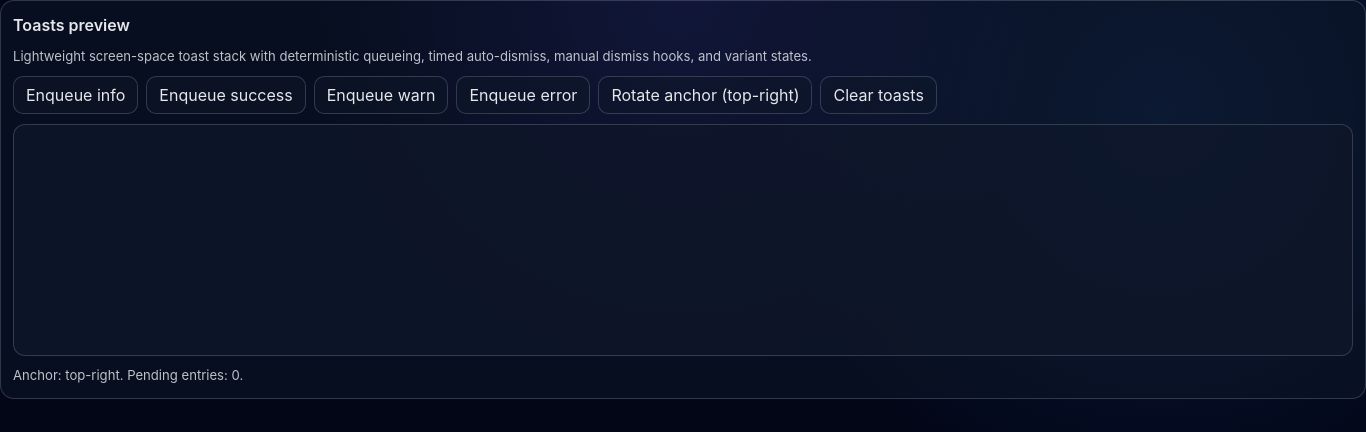
Test: ToastsExample › enqueues and dismisses toasts while updating queue status
Expected: the text "Anchor: top-right. Pending entries: 0." is shown, x1=13 y1=367 x2=243 y2=383
Click the button "Enqueue info": point(76, 95) x1=13 y1=76 x2=138 y2=114
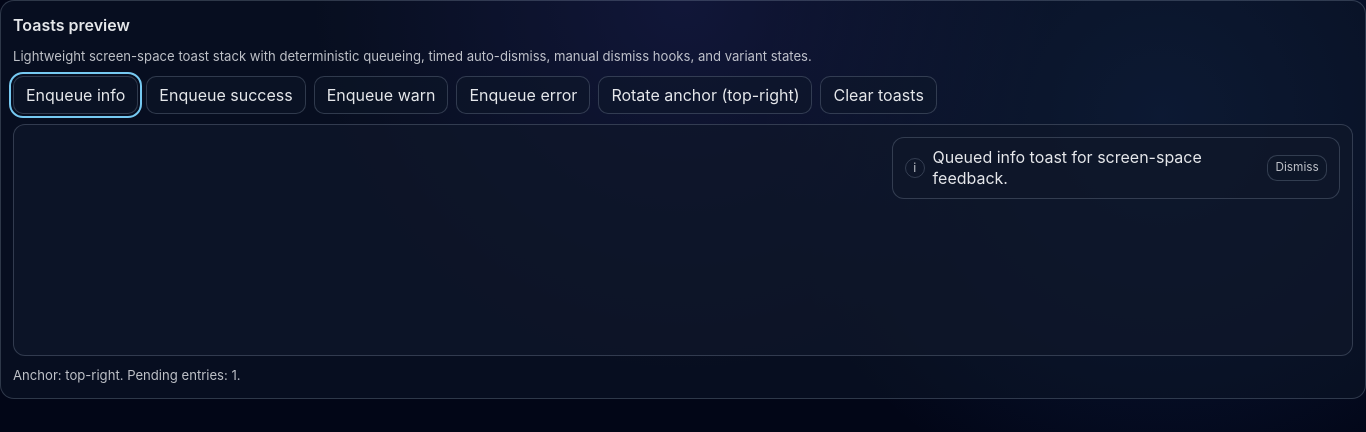
Click the button "Enqueue success": point(226, 95) x1=146 y1=76 x2=306 y2=114
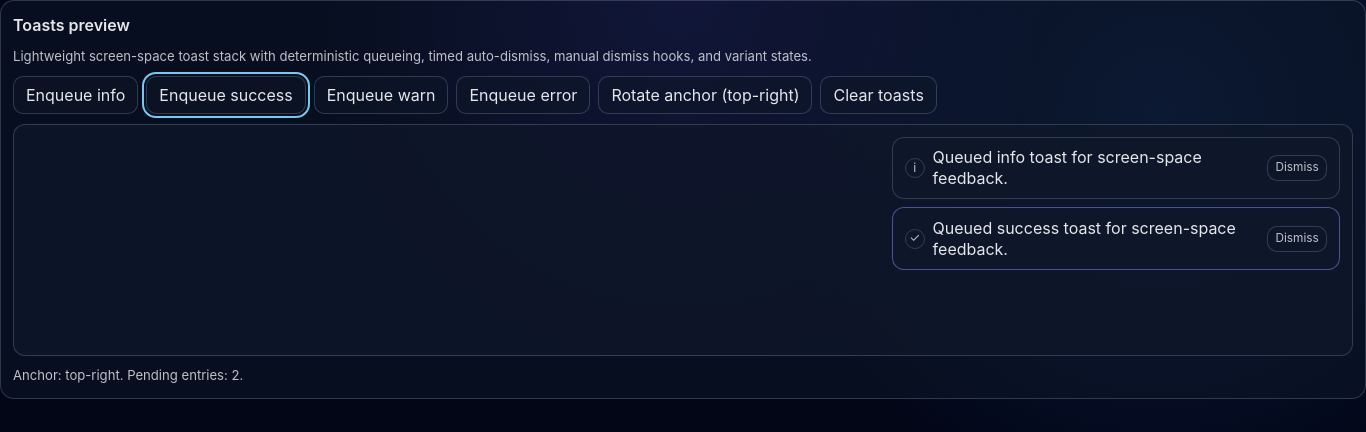
Expected: the text "Anchor: top-right. Pending entries: 2." is shown, x1=13 y1=367 x2=243 y2=383
Click the button with aria-label "Dismiss info toast": point(1297, 168) x1=1267 y1=155 x2=1327 y2=181
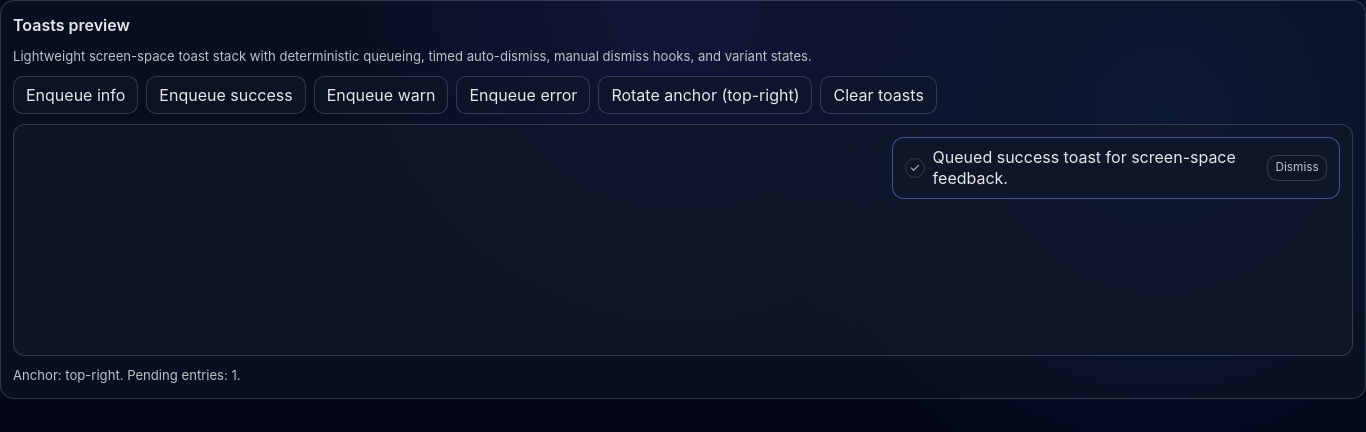
Expected: the text "Anchor: top-right. Pending entries: 1." is shown, x1=13 y1=367 x2=241 y2=383
Click the button "Rotate anchor (top-right)": point(705, 95) x1=598 y1=76 x2=812 y2=114
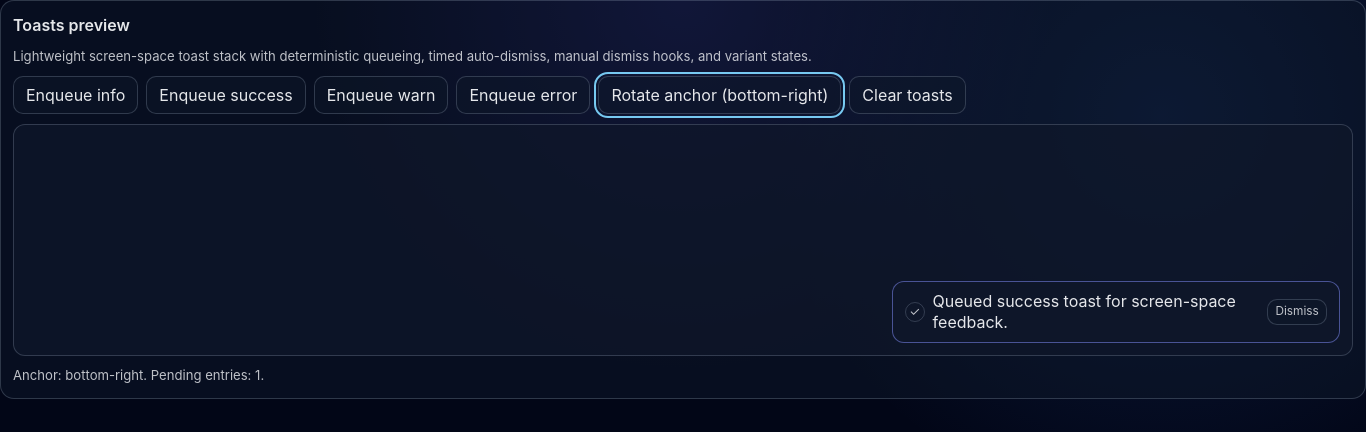
Expected: the text "Anchor: bottom-right. Pending entries: 1." is shown, x1=13 y1=367 x2=264 y2=383
